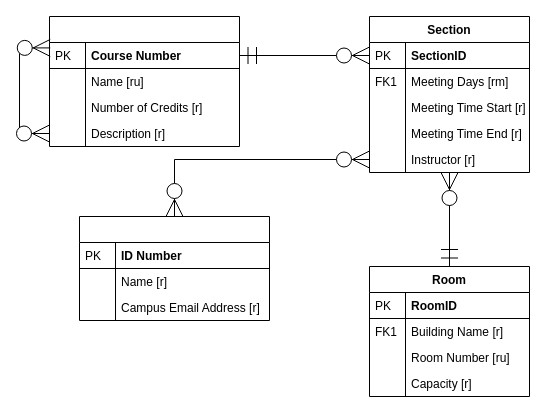
This 546x413 diagram has some shape labels left out. Each missing label, with the box of its shape:
College Course: (48, 16, 240, 146)
Student: (78, 216, 270, 320)
